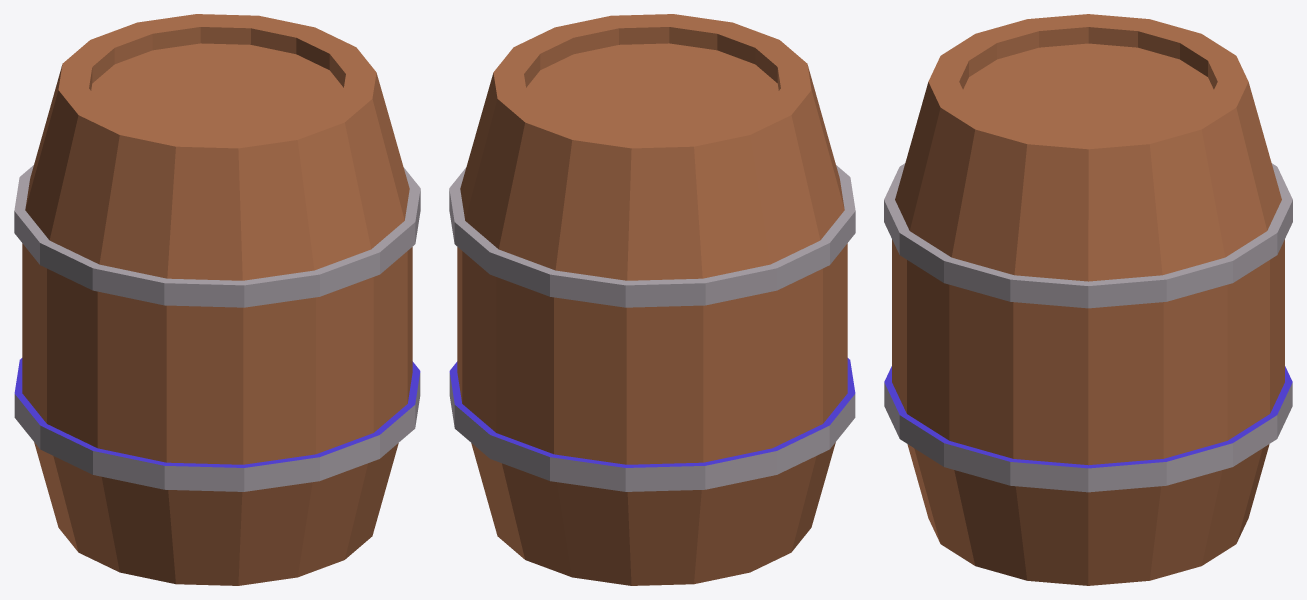
The model's file is barrel2.fbx.
The picture shows the model from 3 angles, left to right: view 1: azimuth 30°, elevation 25°; view 2: azimuth 150°, elevation 25°; view 3: azimuth 270°, elevation 25°; orthographic projection.
Visible parts, largest first — view 1: Cylinder.002; view 2: Cylinder.002; view 3: Cylinder.002.
Part boxes in pixels (<box>): Cylinder.002: <box>14,14,420,585</box>; Cylinder.002: <box>449,14,855,585</box>; Cylinder.002: <box>884,14,1292,585</box>.
Size of the model in its own units: 255 by 301 by 255.
